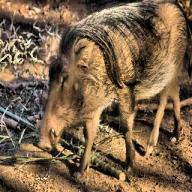boar: (33, 0, 191, 178)
